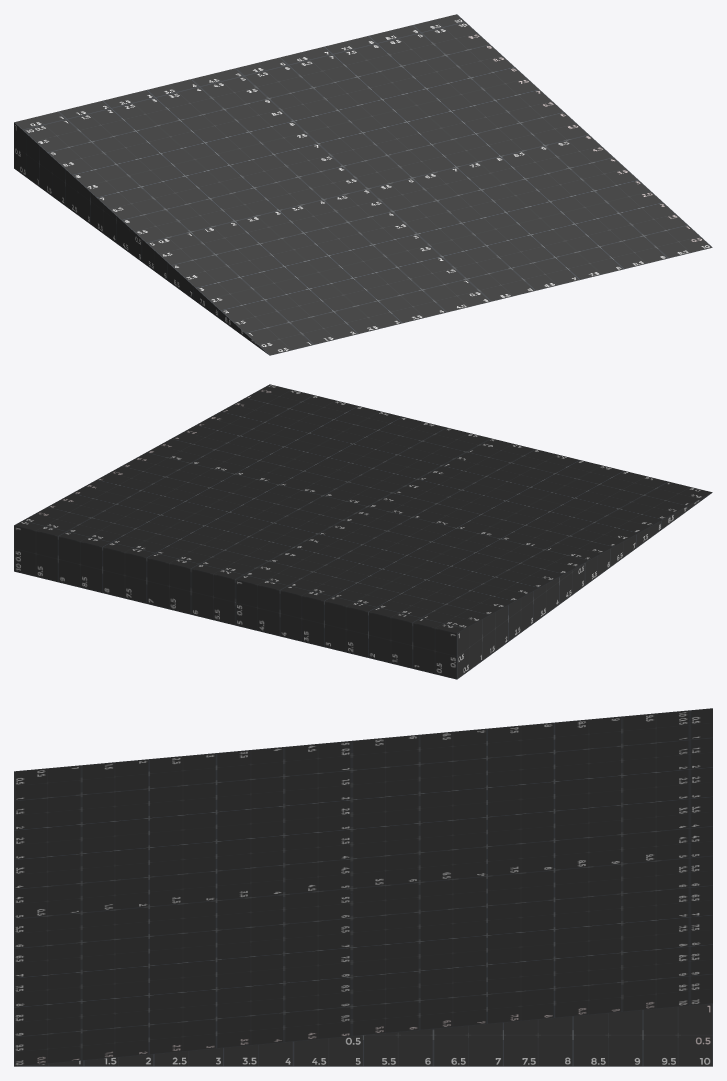
File: WedgeFloor_01.fbx
3 renders of one model, top to bottom at view 1: azimuth 30°, elevation 25°; view 2: azimuth 150°, elevation 25°; view 3: azimuth 270°, elevation 25°, orthographic. The views are drawn at different scales.
Visible parts, largest first — view 1: WedgeFloor_01; view 2: WedgeFloor_01; view 3: WedgeFloor_01.
Part boxes in pixels (x1,y1,x2,y2): WedgeFloor_01: (14,14,712,355); WedgeFloor_01: (14,384,712,679); WedgeFloor_01: (14,708,712,1066).
Size of the model in its own units: 10 by 0.9963 by 10.
